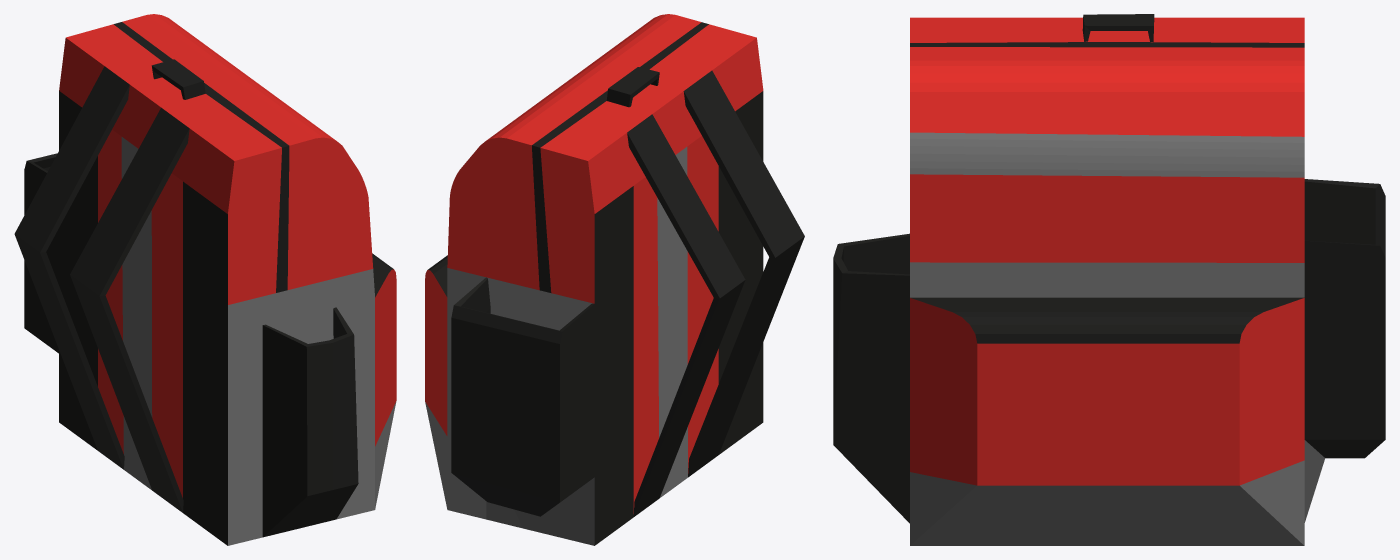
Rendered from School-Bag.fbx.
The picture shows the model from 3 angles, left to right: view 1: azimuth 30°, elevation 25°; view 2: azimuth 150°, elevation 25°; view 3: azimuth 270°, elevation 25°; orthographic projection. The views are drawn at different scales.
Visible parts, largest first — view 1: 立方体; view 2: 立方体; view 3: 立方体.
Boxes of the visible parts, <box> form: 立方体: <box>14,14,396,545</box>; 立方体: <box>425,14,804,545</box>; 立方体: <box>833,14,1385,545</box>.
Bounding box in the file's own units: 113 × 153 × 164.
